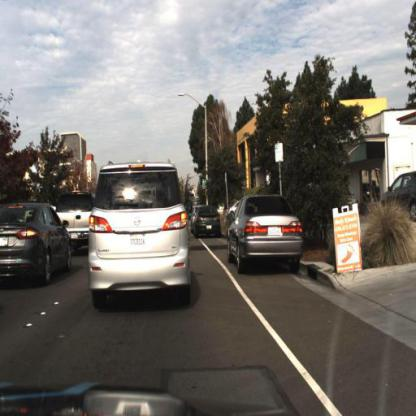car: (93, 165, 190, 303), (229, 196, 304, 280), (1, 202, 74, 280), (63, 192, 101, 251), (383, 172, 416, 220), (195, 206, 222, 238)
